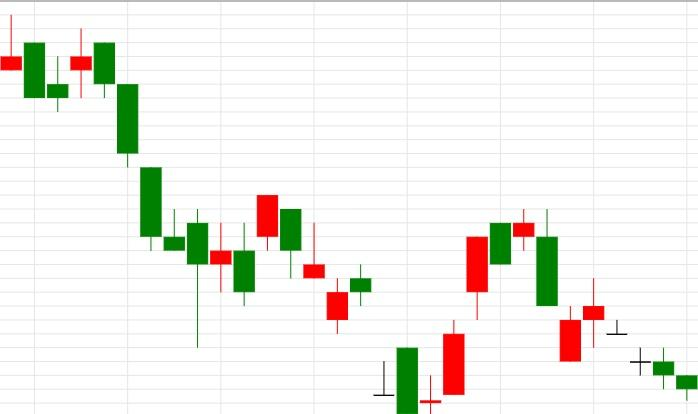three_black_crows_fall: (46, 28, 163, 252)
